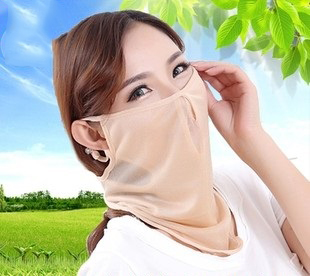face_mask: (110, 24, 207, 176)
